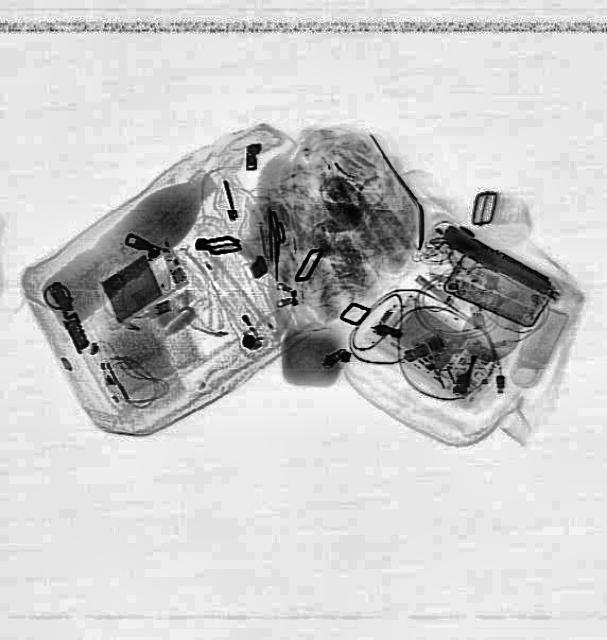Scissors: (268, 212, 284, 278)
